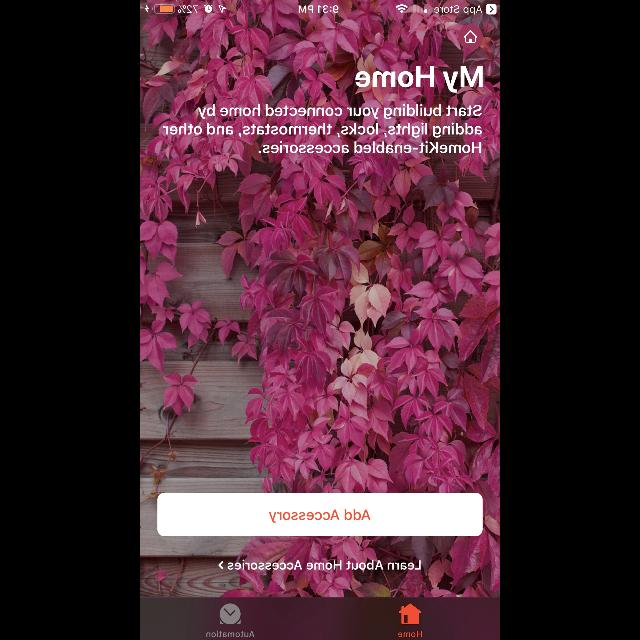backgroundimage: (140, 15, 500, 597)
icon: (458, 25, 482, 49), (398, 604, 422, 624), (220, 604, 240, 624), (218, 561, 224, 569)
text: (163, 104, 482, 154), (356, 66, 482, 94), (228, 560, 420, 570), (206, 630, 254, 638), (398, 630, 422, 638)
textbutton: (158, 492, 482, 536)
uppertaskbar: (140, 1, 500, 16)
